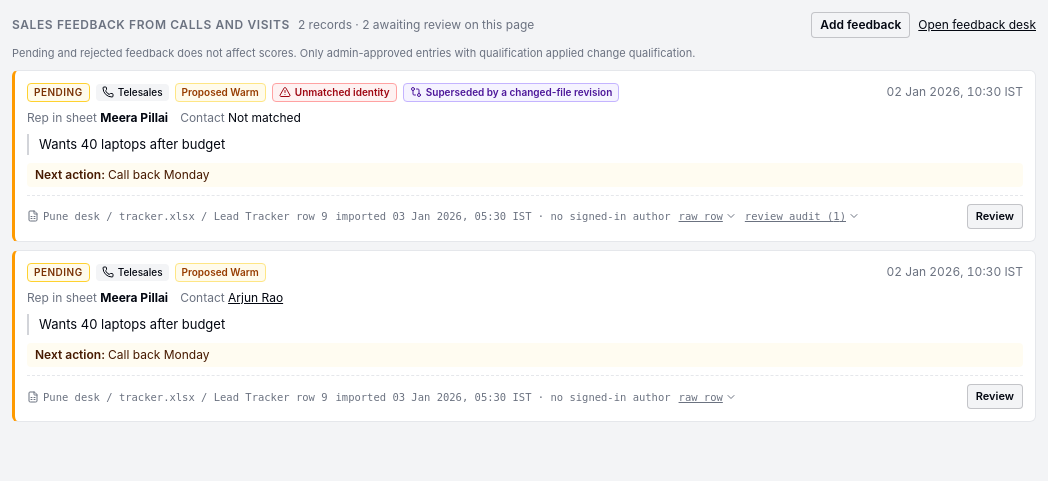
narrows by account, uses the authoritative superseded flag and exposes audit history
The image size is (1048, 481).
Expected: the element with test id "feedback-entry-2" is shown, [12, 250, 1036, 422]
Expected: the element with test id "unmatched-feedback-1" is shown, [272, 83, 397, 102]
Click the button with test id "button-audit-1" at (802, 216), box [745, 210, 860, 224]
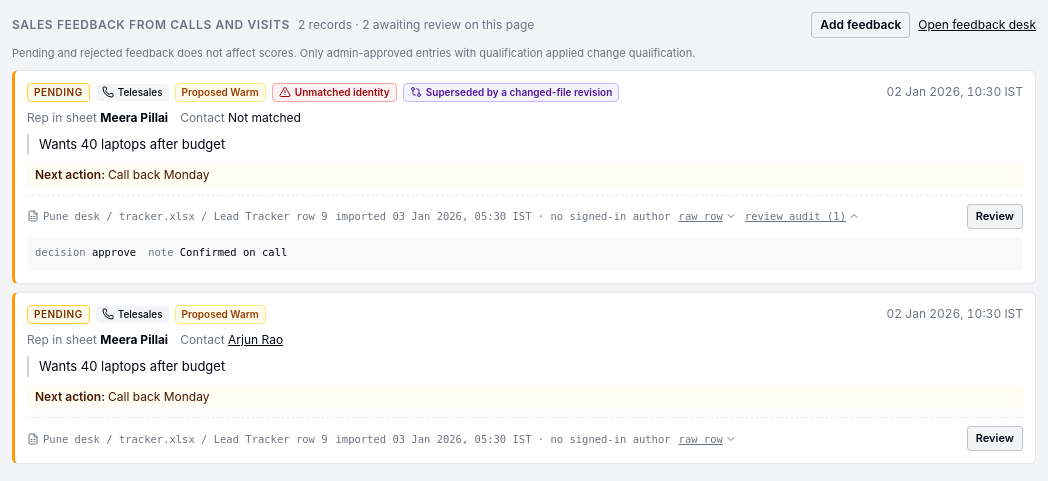
Expected: the button with test id "button-add-feedback-here" is shown, [811, 12, 910, 38]
Now the list with test id "audit-1" shows "Confirmed on call", box [180, 246, 287, 258]
